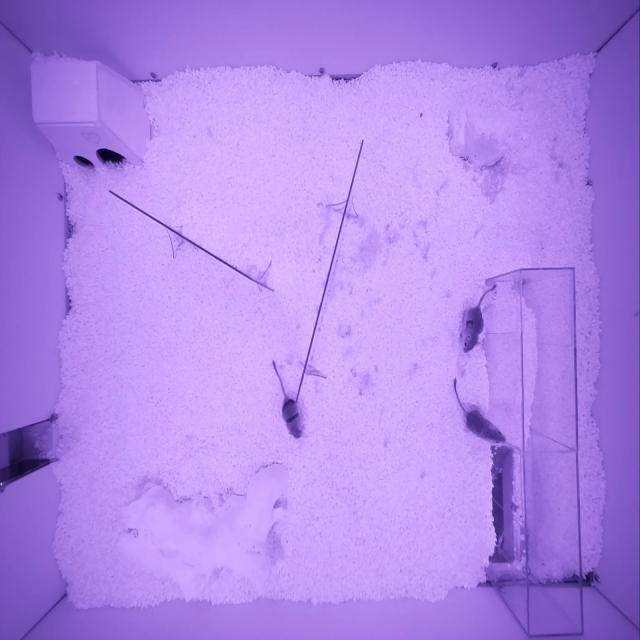pup_fluffy: (465, 409, 507, 445)
pup_h_stripe: (281, 396, 304, 439)
pup_spotted: (460, 306, 484, 353)
